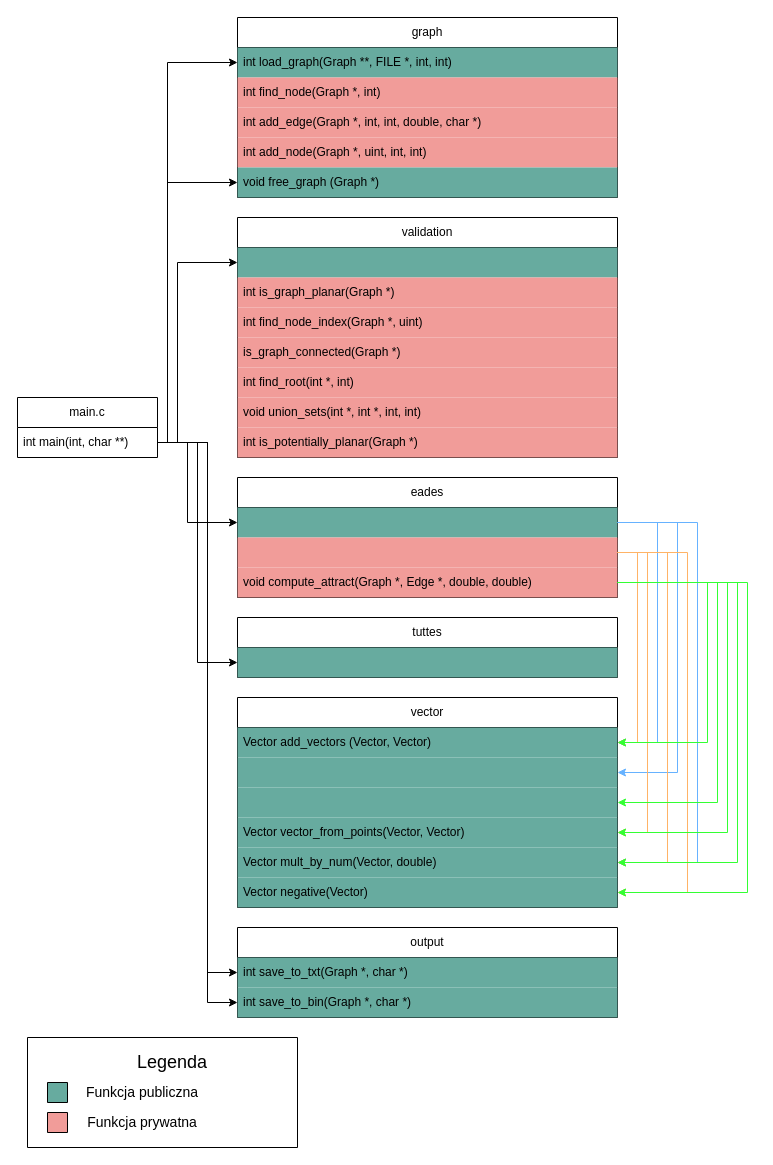
This 773x1165 diagram has some shape labels left out. The shapes that lost their labels are listed below. From the top down, each one's centre as x and y in pixels, then its label:
At [427,262]: "int is_graph_valid(Graph *)".
At [427,522]: "void eades_algorithm(Graph *, double, int, double, double, int, double)".
At [427,552]: "void compute_repulive(Node *, Node *, int)".
At [427,662]: "void tuttes_algorithm(Graph *graph)".
At [427,772]: "double count_vector_length(Vector)".
At [427,802]: "double distance (Vector, Vector)".
